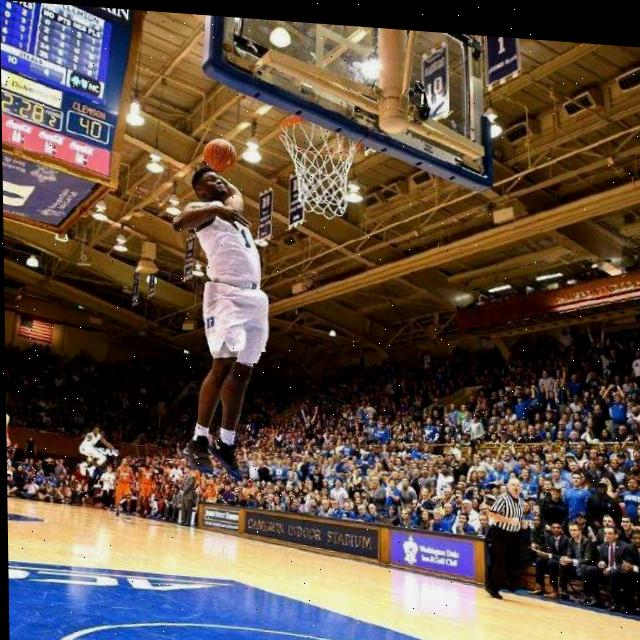basketball: (204, 137, 237, 170)
hoop: (279, 112, 365, 220)
